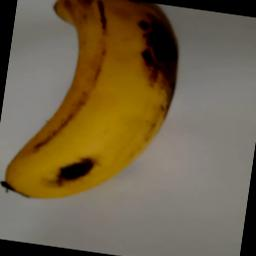Banana Unripe: (0, 0, 189, 215)
